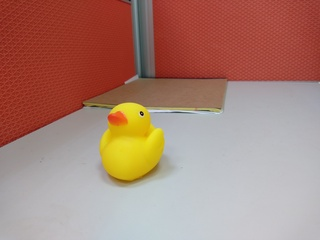duck: (92, 100, 172, 187)
